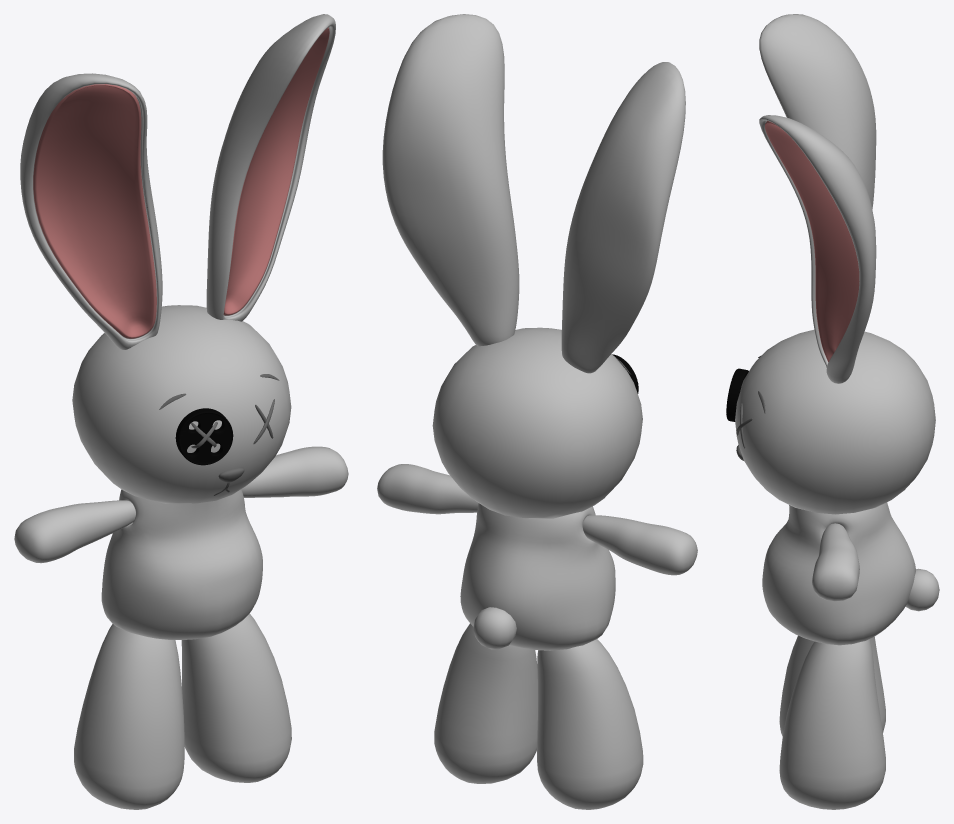
Rendered from rabbit.gltf.
3 renders of one model, left to right at view 1: azimuth 30°, elevation 25°; view 2: azimuth 150°, elevation 25°; view 3: azimuth 270°, elevation 25°, orthographic. The views are drawn at different scales.
Parts seen in each view (by area): view 1: Object_4, Object_5, Object_2, Object_3; view 2: Object_4; view 3: Object_4, Object_5, Object_2.
Boxes of the visible parts, <box> form: Object_4: <box>14,14,348,809</box>; Object_5: <box>33,27,329,338</box>; Object_2: <box>175,408,233,465</box>; Object_3: <box>159,374,279,495</box>; Object_4: <box>377,14,697,809</box>; Object_4: <box>735,14,939,809</box>; Object_5: <box>765,121,859,362</box>; Object_2: <box>726,368,748,421</box>.
Bounding box in the file's own units: 7.29 × 16.41 × 4.46.
